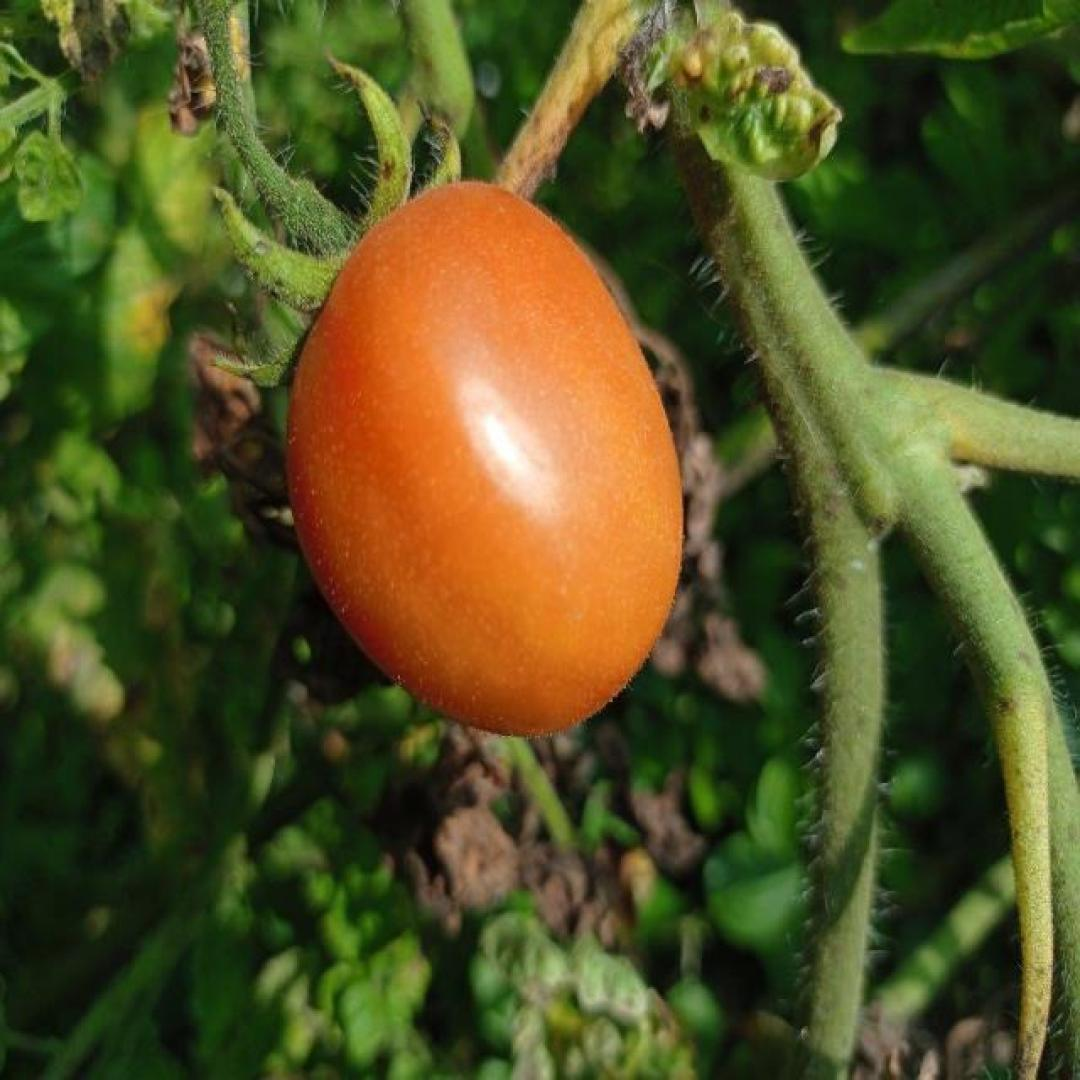setengah_matang: (280, 175, 690, 741)
